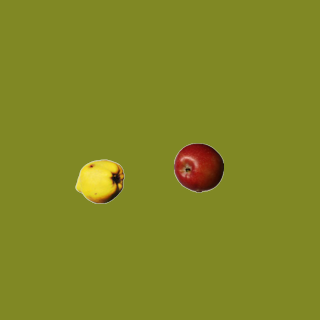Apple Braeburn: (173, 142, 223, 192)
Quince: (74, 156, 124, 206)
